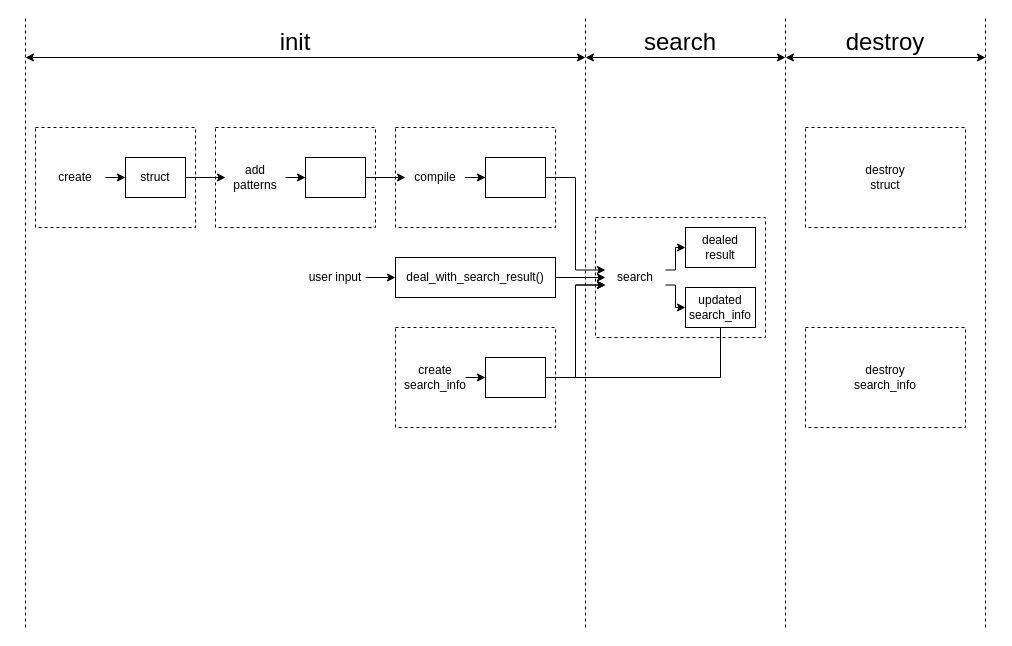
The diagram is 1012 pixels wide and 646 high, and some of its shapes have lost their labels. Here are the shapes that lost their labels. From the top down, the centre of each, then its label:
At (335,177): "struct +patterns".
At (515,177): "compiled struct".
At (515,377): "search info".
